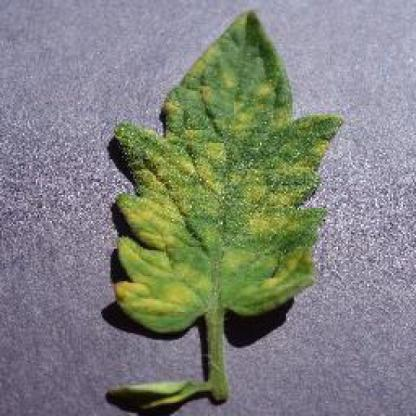Tomato_Leaf_Mold: (113, 7, 343, 331)
